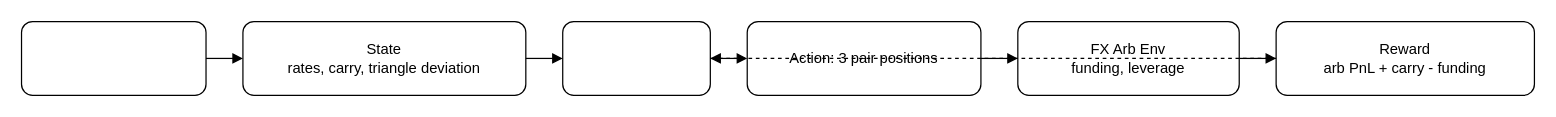
The diagram is 1556 pixels wide and 117 high, and some of its shapes have lost their labels. Each missing label, with the centre of its shape:
"DDPG Policy" goes at (x=635, y=57).
"FX Rates Data" goes at (x=113, y=57).
